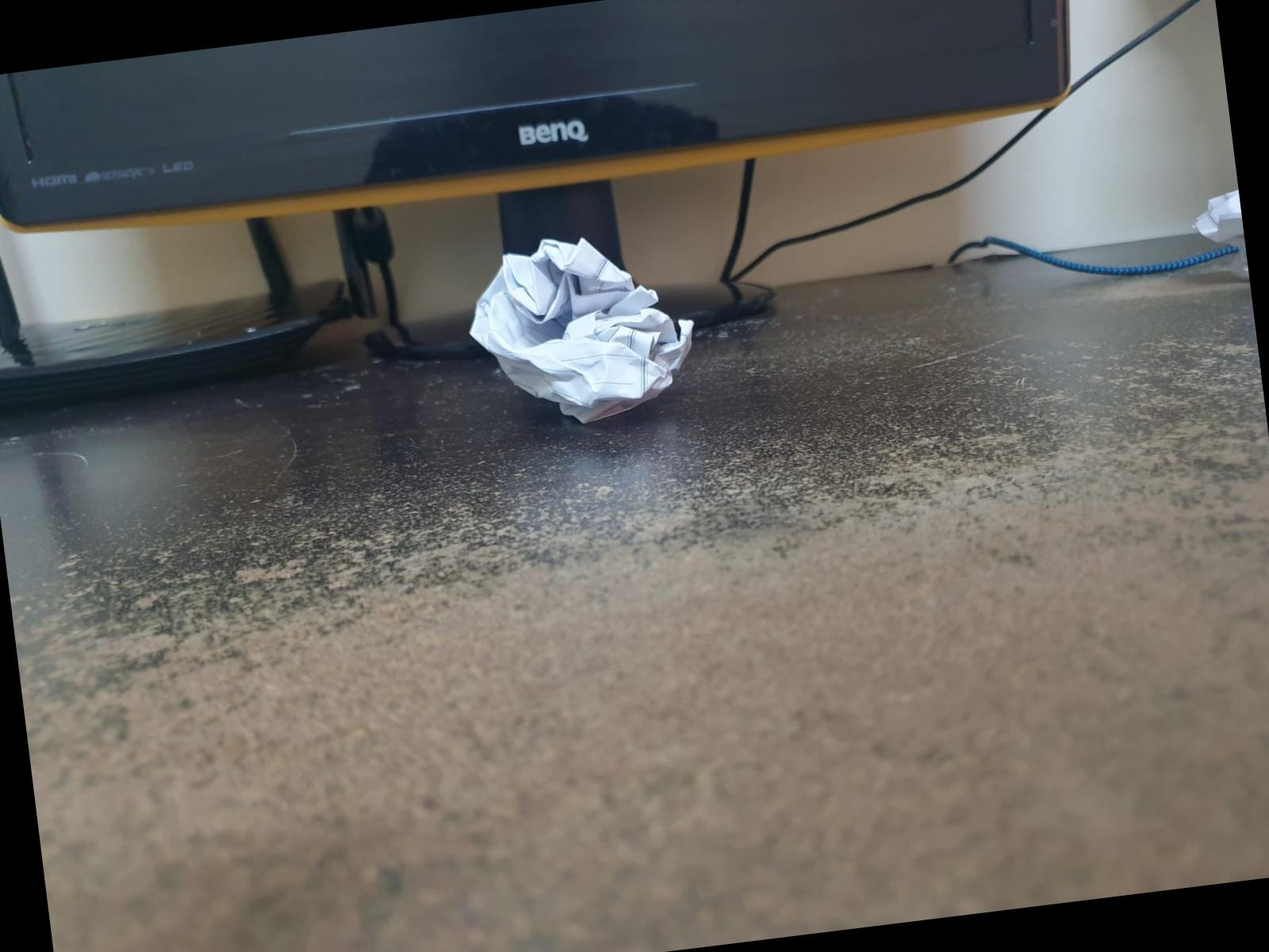Kertas: (485, 232, 651, 417)
